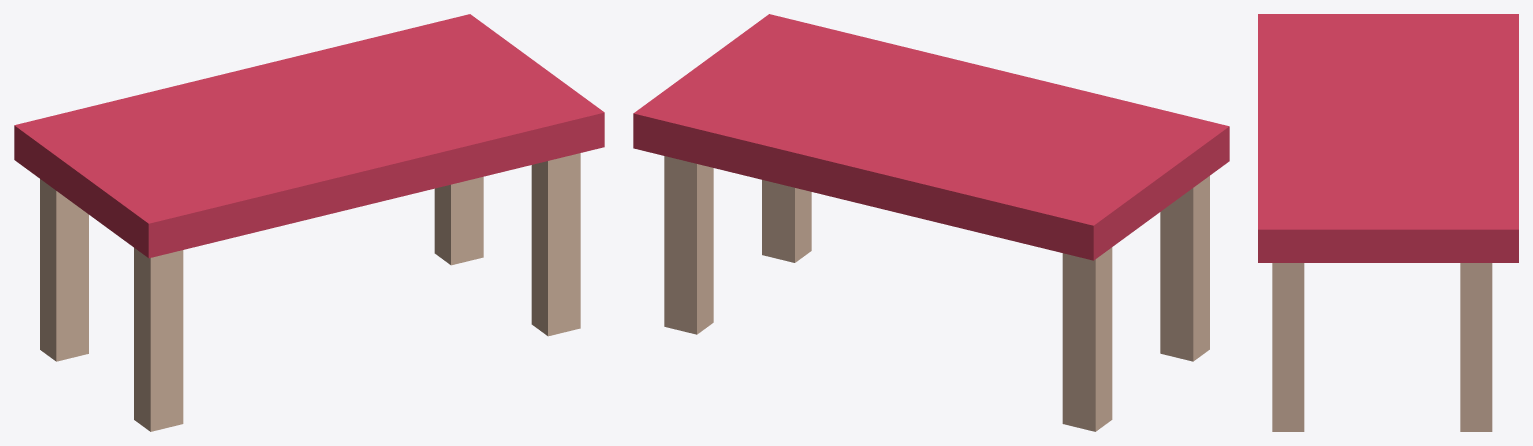
File: GasStationOverhead.fbx
3 renders of one model, left to right at view 1: azimuth 30°, elevation 25°; view 2: azimuth 150°, elevation 25°; view 3: azimuth 270°, elevation 25°, orthographic. The views are drawn at different scales.
Parts seen in each view (by area): view 1: pCube28; view 2: pCube28; view 3: pCube28.
Boxes of the visible parts, x1=… form: pCube28: x1=14, y1=14, x2=604, y2=431; pCube28: x1=633, y1=14, x2=1229, y2=431; pCube28: x1=1258, y1=14, x2=1518, y2=431.
Bounding box in the file's own units: 1.36 × 0.621 × 0.6975.
